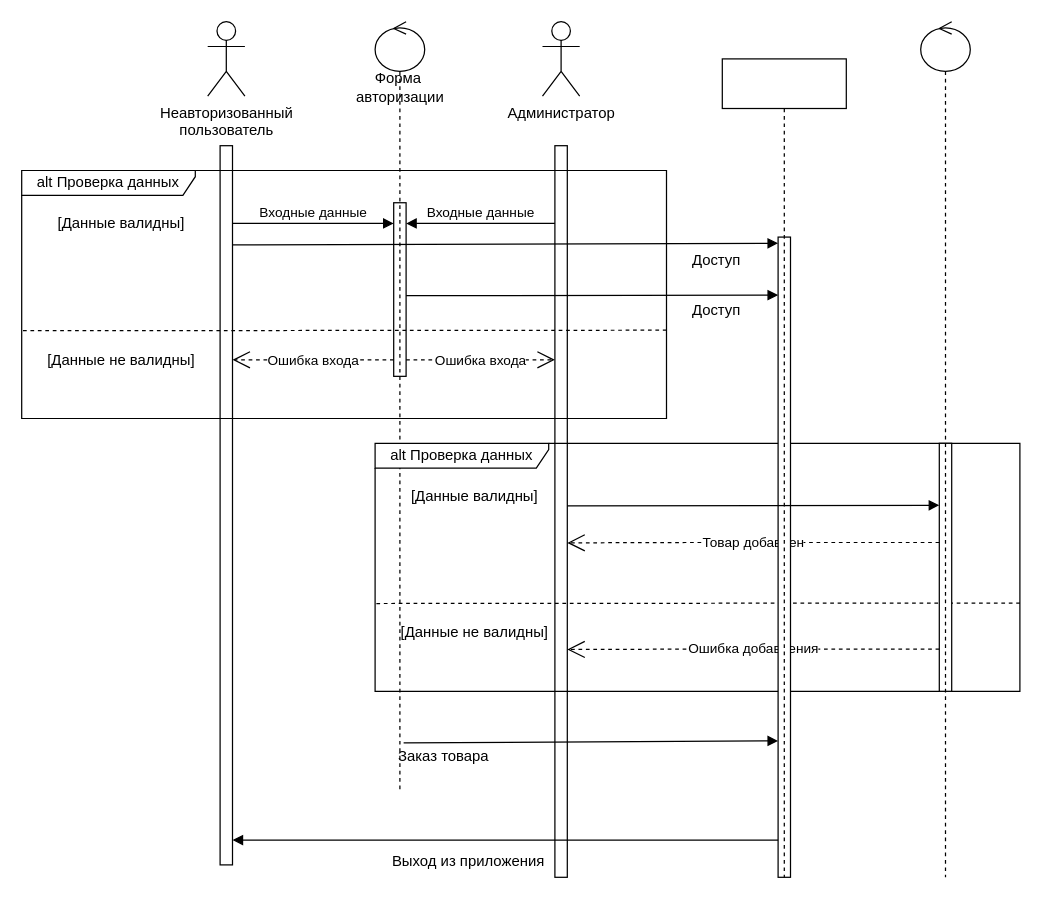
Image size: 1043x899. Some labels were removed from this diagram. The box of each missing label's shape, as (x1, y1, x2, y2) in pixels:
Главная страница: (721, 58, 846, 877)
Форма добавления товара: (919, 20, 970, 877)
